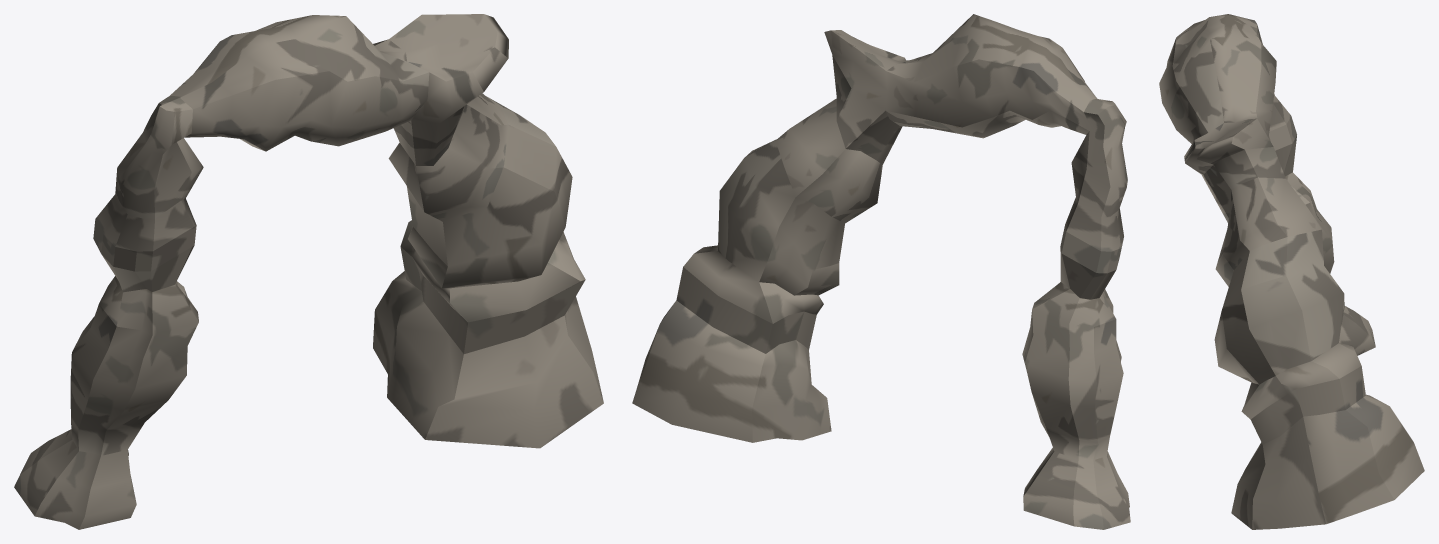
The model's file is Natural_Stone_Archway.obj.
3 renders of one model, left to right at view 1: azimuth 30°, elevation 25°; view 2: azimuth 150°, elevation 25°; view 3: azimuth 270°, elevation 25°, orthographic. The views are drawn at different scales.
Parts seen in each view (by area): view 1: pCube7; view 2: pCube7; view 3: pCube7.
Part boxes in pixels (x1,y1,x2,y2): pCube7: [14, 14, 603, 529]; pCube7: [632, 14, 1130, 529]; pCube7: [1159, 14, 1424, 529].
Bounding box in the file's own units: 5.25 × 4.42 × 2.72.
1 material, 1 textured.
